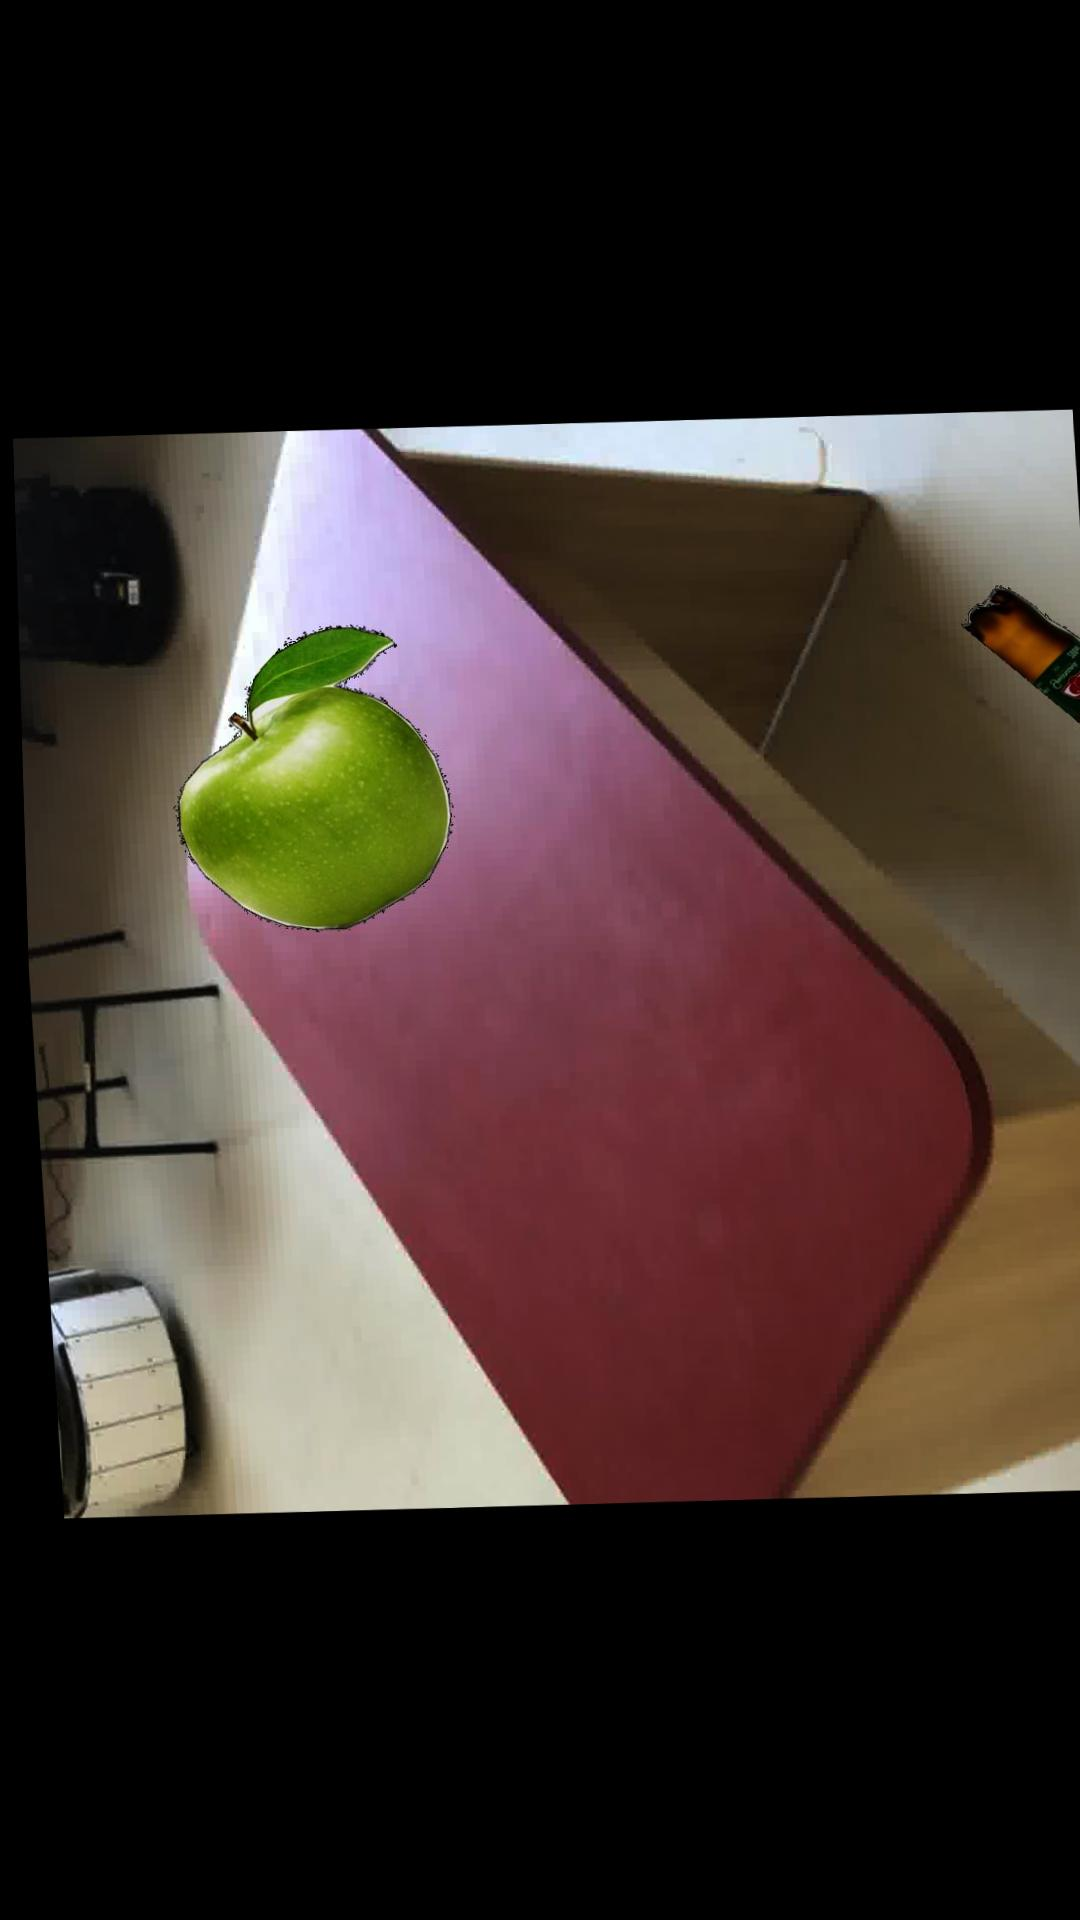green apple: (169, 624, 444, 930)
guarana: (955, 584, 1080, 727)
